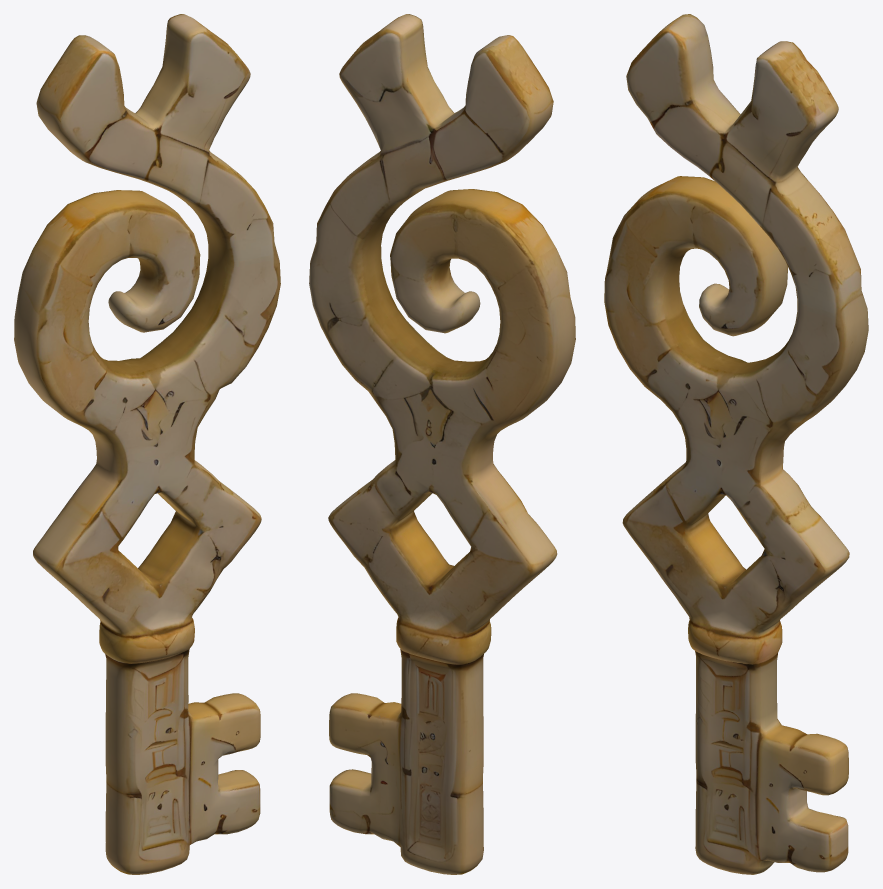
The model's file is ornate+key+3d+model.obj.
3 views of the same model, side by side, from view 1: azimuth 30°, elevation 25°; view 2: azimuth 150°, elevation 25°; view 3: azimuth 330°, elevation 25° (orthographic).
Visible parts, largest first — view 1: tripo_node_cdf5feac; view 2: tripo_node_cdf5feac; view 3: tripo_node_cdf5feac.
Part boxes in pixels (box(x1,y1,x2,y2)): tripo_node_cdf5feac: box(14, 14, 280, 874); tripo_node_cdf5feac: box(309, 14, 575, 874); tripo_node_cdf5feac: box(604, 14, 868, 874).
Size of the model in its own units: 30.97 by 99.96 by 8.15.
1 material, 1 textured.
